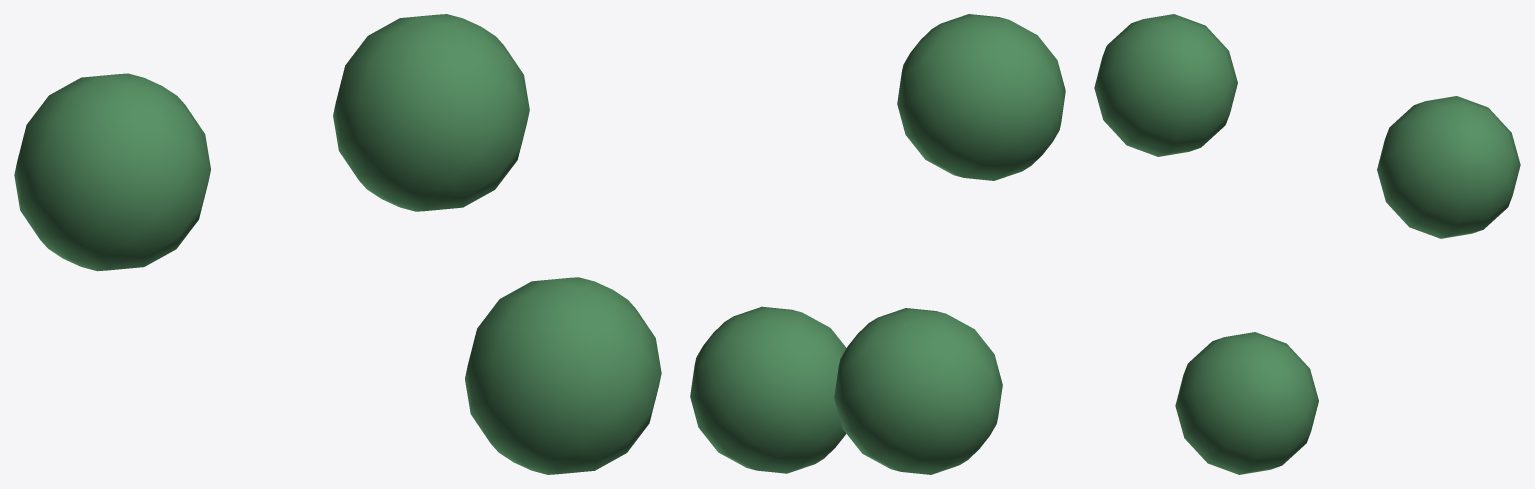
The picture shows the model from 3 angles, left to right: view 1: azimuth 30°, elevation 25°; view 2: azimuth 150°, elevation 25°; view 3: azimuth 270°, elevation 25°; orthographic projection. The views are drawn at different scales.
Parts seen in each view (by area): view 1: 右侧颊肌淋巴结; view 2: 右侧颊肌淋巴结; view 3: 右侧颊肌淋巴结.
Part boxes in pixels (x1,y1,x2,y2): 右侧颊肌淋巴结: (14, 14, 661, 474); 右侧颊肌淋巴结: (690, 14, 1065, 474); 右侧颊肌淋巴结: (1094, 14, 1520, 474).
Bounding box in the file's own units: 0.0106 × 0.0112 × 0.0113.
